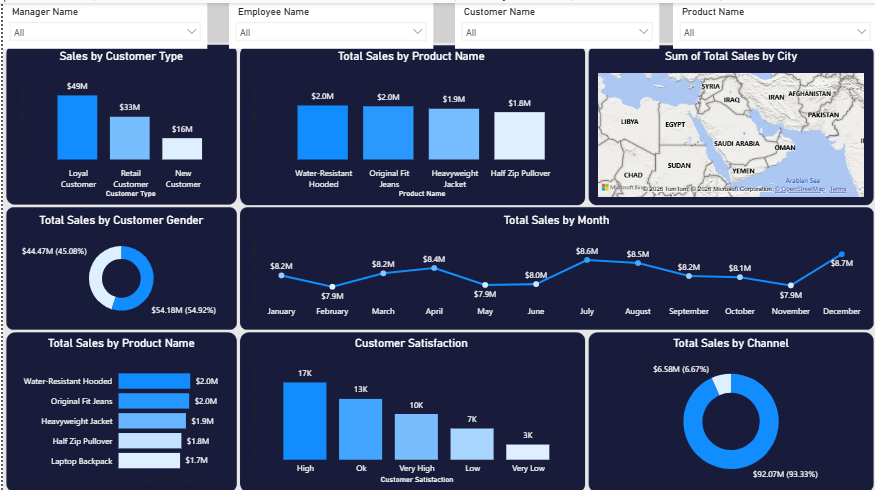

The page's visual inventory and layout, read from the dashboard file:
{"tool":"powerbi","page":{"name":"Page 1","canvas":[1280,720],"ordinal":0},"visuals":[{"type":"image","box":[0,0,1280.5,720],"z":0},{"type":"filledMap","fields":{"Category":["Sales Data.City"]},"box":[866.8,67.2,398.1,221.7],"z":1000},{"type":"donutChart","title":"Total Sales by Channel","fields":{"Category":["Sales Data.Channel"],"Y":["Sum(Sales Data.Total Sales)"]},"box":[866.8,487.1,398.1,220.1],"z":2000},{"type":"columnChart","title":"Customer Satisfaction","fields":{"Category":["Sales Data.Customer Satisfaction"],"Y":["CountNonNull(Sales Data.Customer Satisfaction)"]},"box":[356.1,487.1,483.8,220.1],"z":3000},{"type":"columnChart","title":"Sales by Customer Type","fields":{"Y":["Sum(Sales Data.Total Sales)"],"Category":["Sales Data.Customer Type"]},"box":[16.8,67.2,314.1,221.7],"z":4000},{"type":"lineChart","title":"Total Sales by Month","fields":{"Y":["Sum(Sales Data.Total Sales)"],"Category":["Sales Data.Invoice Date.Variation.Date Hierarchy.Month"]},"box":[356.1,307.4,908.8,161.3],"z":5000},{"type":"columnChart","title":"Total Sales by Product Name","fields":{"Category":["Sales Data.Product Name"],"Y":["Sum(Sales Data.Total Sales)"]},"box":[356.1,67.2,483.8,221.7],"z":6000},{"type":"donutChart","title":"Total Sales by Customer Gender","fields":{"Category":["Sales Data.Customer Gender"],"Y":["Sum(Sales Data.Total Sales)"]},"box":[16.8,307.4,314.1,161.3],"z":7000},{"type":"barChart","title":"Total Sales by Product Name","fields":{"Category":["Sales Data.Product Name"],"Y":["Sum(Sales Data.Total Sales)"]},"box":[16.8,487.1,314.1,220.1],"z":8000},{"type":"slicer","fields":{"Values":["Sales Data.Manager Name"]},"box":[0,0,299,67.2],"z":9000},{"type":"slicer","fields":{"Values":["Sales Data.Employee Name"]},"box":[330.9,0,299,67.2],"z":10000},{"type":"slicer","fields":{"Values":["Sales Data.Customer Name"]},"box":[661.8,0,299,67.2],"z":11000},{"type":"slicer","fields":{"Values":["Sales Data.Product Name"]},"box":[981,0,299,67.2],"z":12000}]}

Visuals, with their boxes in screenshot pixels (x1, y1, x2, y2), scaled from the page's 1280x720 canvas onto the 875x490 screenshot:
image: rect(0, 0, 874, 489)
filledMap - Sales Data.City: rect(593, 46, 865, 197)
"Total Sales by Channel" donutChart: rect(593, 331, 865, 481)
"Customer Satisfaction" columnChart: rect(243, 331, 574, 481)
"Sales by Customer Type" columnChart: rect(11, 46, 226, 197)
"Total Sales by Month" lineChart: rect(243, 209, 865, 319)
"Total Sales by Product Name" columnChart: rect(243, 46, 574, 197)
"Total Sales by Customer Gender" donutChart: rect(11, 209, 226, 319)
"Total Sales by Product Name" barChart: rect(11, 331, 226, 481)
slicer - Sales Data.Manager Name: rect(0, 0, 204, 46)
slicer - Sales Data.Employee Name: rect(226, 0, 431, 46)
slicer - Sales Data.Customer Name: rect(452, 0, 657, 46)
slicer - Sales Data.Product Name: rect(671, 0, 874, 46)
